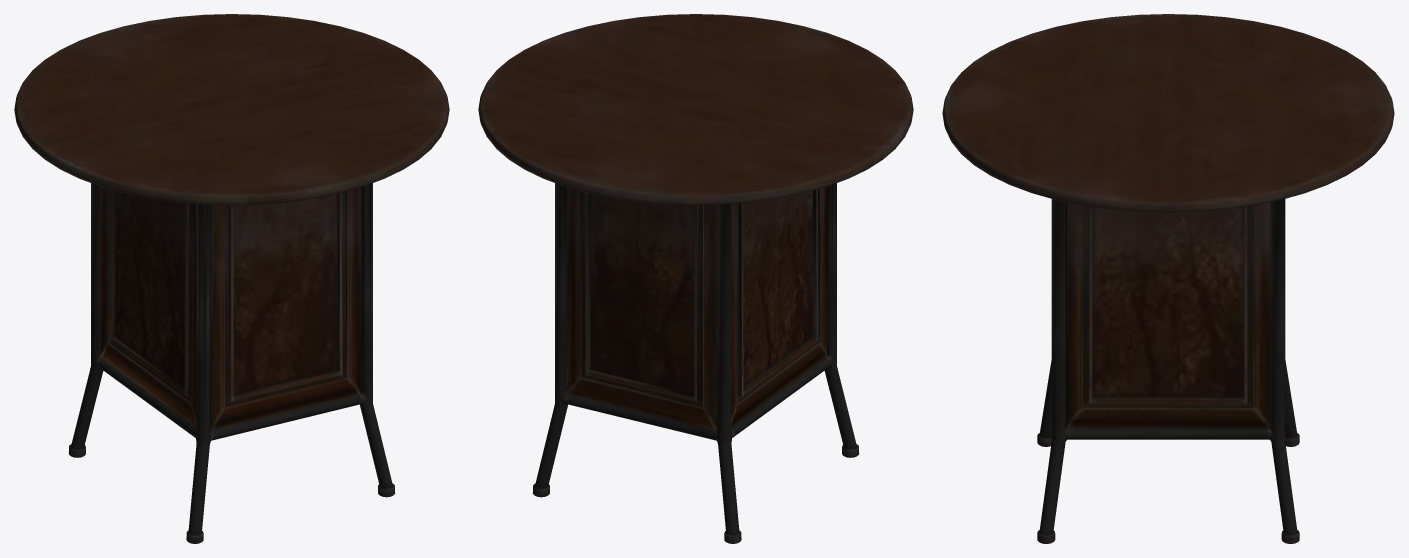
The model's file is round_wooden_table_02.glb.
The picture shows the model from 3 angles, left to right: view 1: azimuth 30°, elevation 25°; view 2: azimuth 150°, elevation 25°; view 3: azimuth 270°, elevation 25°; orthographic projection. The views are drawn at different scales.
Parts seen in each view (by area): view 1: round_wooden_table_02; view 2: round_wooden_table_02; view 3: round_wooden_table_02.
Boxes of the visible parts, x1=… form: round_wooden_table_02: x1=14, y1=14, x2=449, y2=543; round_wooden_table_02: x1=478, y1=14, x2=913, y2=543; round_wooden_table_02: x1=942, y1=14, x2=1394, y2=543.
Size of the model in its own units: 0.7962 by 0.7459 by 0.7962.
1 material, 1 textured.
